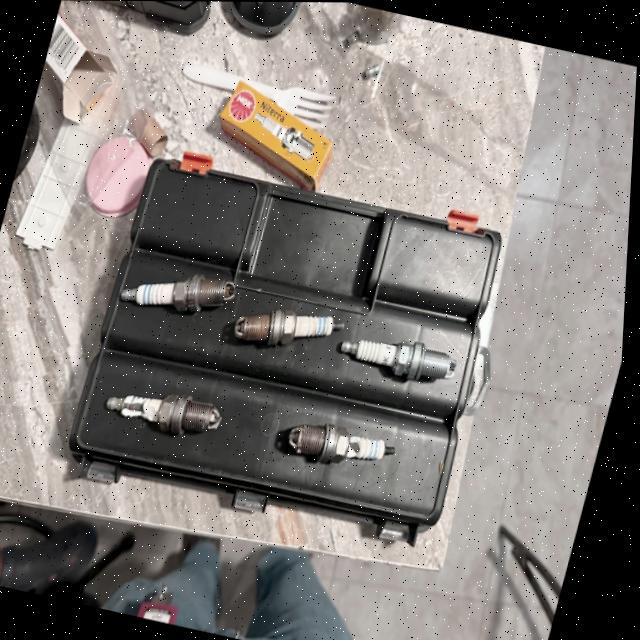damaged_spark-plug: (284, 409, 405, 475), (105, 377, 233, 438)
spark-plug: (120, 254, 247, 327), (337, 325, 458, 382), (242, 294, 346, 352)
